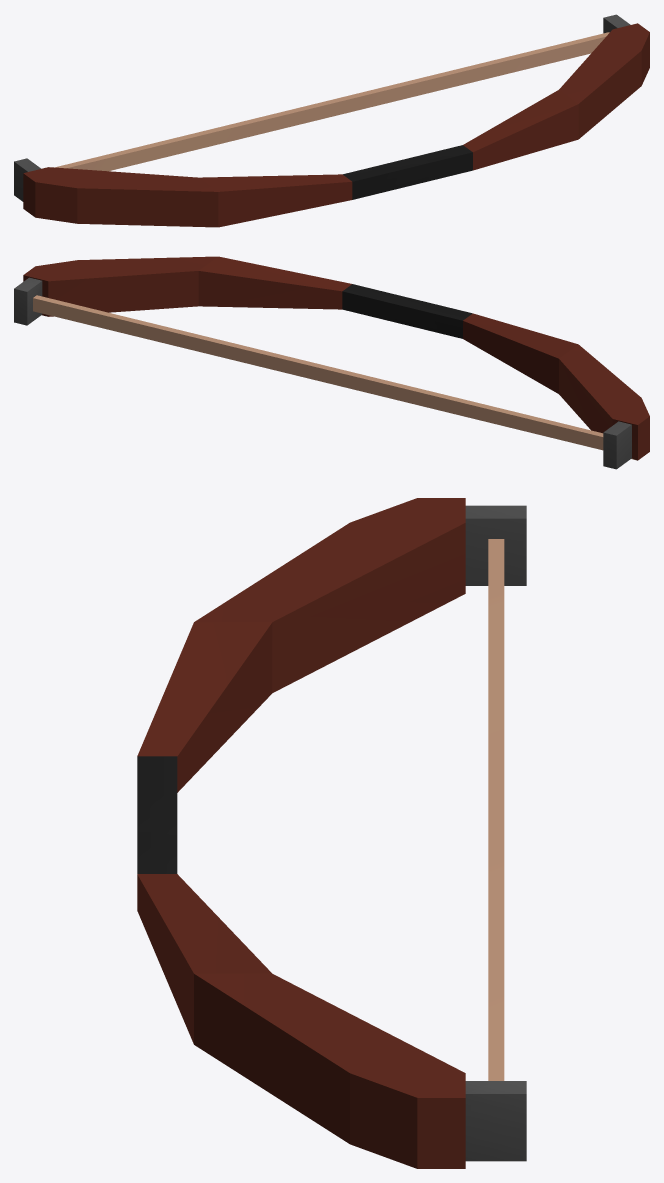
File: Bow.fbx
3 views of the same model, one above another, from view 1: azimuth 30°, elevation 25°; view 2: azimuth 150°, elevation 25°; view 3: azimuth 270°, elevation 25° (orthographic). The views are drawn at different scales.
Visible parts, largest first — view 1: Cube; view 2: Cube; view 3: Cube.
Boxes of the visible parts, x1,y1,x2,y2 form: Cube: (14,14,649,227); Cube: (14,256,649,469); Cube: (137,498,526,1168).
Bounding box in the file's own units: 799 × 44.16 × 219.
